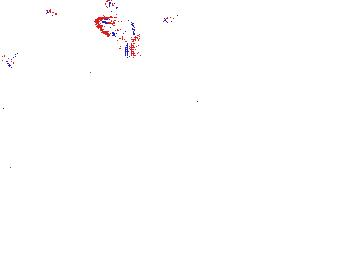red belly glassfish: (161, 12, 193, 27), (44, 2, 69, 17), (104, 1, 119, 15)
redtail glassfish: (103, 32, 134, 59)
siberian prawn: (1, 239, 98, 260)
